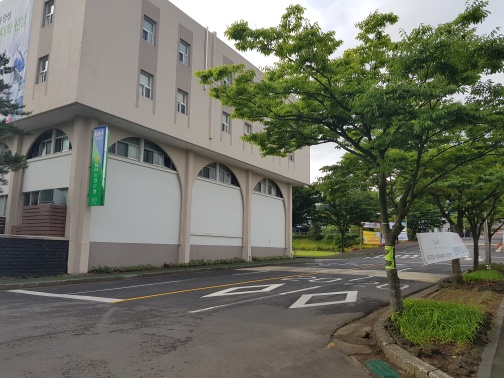Main Building of University: (2, 2, 311, 261), (116, 132, 285, 200), (136, 6, 196, 126), (88, 123, 112, 208)
